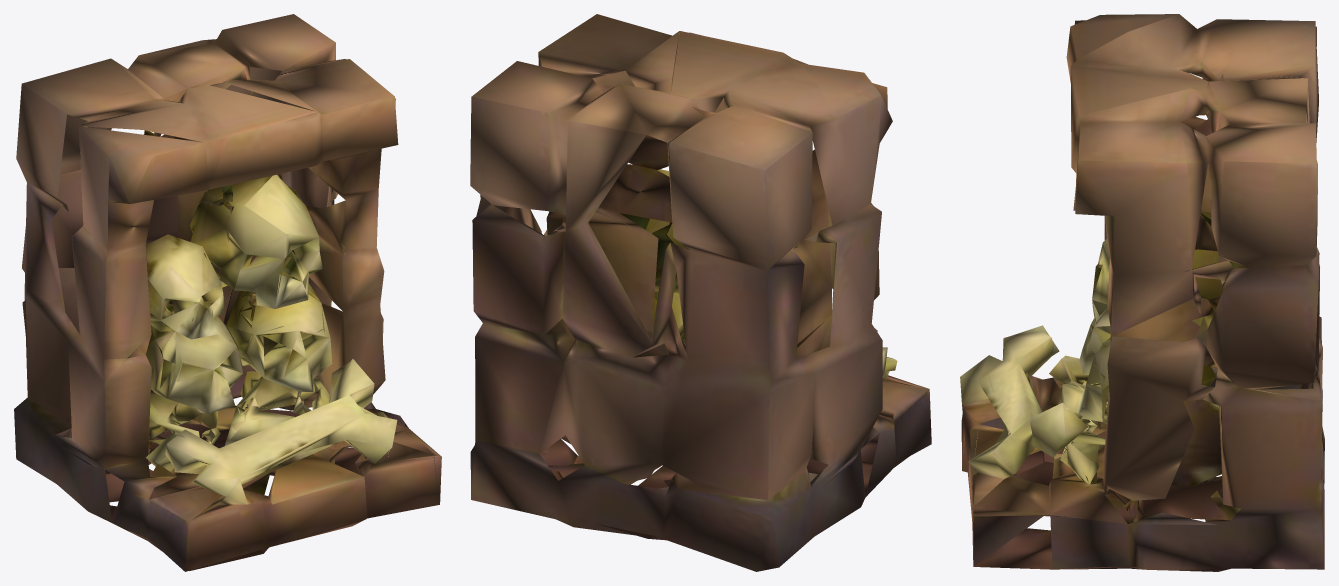
File: lg-skull-pile.glb
3 views of the same model, side by side, from view 1: azimuth 30°, elevation 25°; view 2: azimuth 150°, elevation 25°; view 3: azimuth 270°, elevation 25° (orthographic). The views are drawn at different scales.
Visible parts, largest first — view 1: geometry_0; view 2: geometry_0; view 3: geometry_0.
Boxes of the visible parts, x1=… form: geometry_0: x1=14, y1=14, x2=441, y2=571; geometry_0: x1=470, y1=14, x2=931, y2=571; geometry_0: x1=960, y1=14, x2=1324, y2=571.
Size of the model in its own units: 0.7858 by 1 by 0.7836.
Materials: 1 (1 with a texture image).
